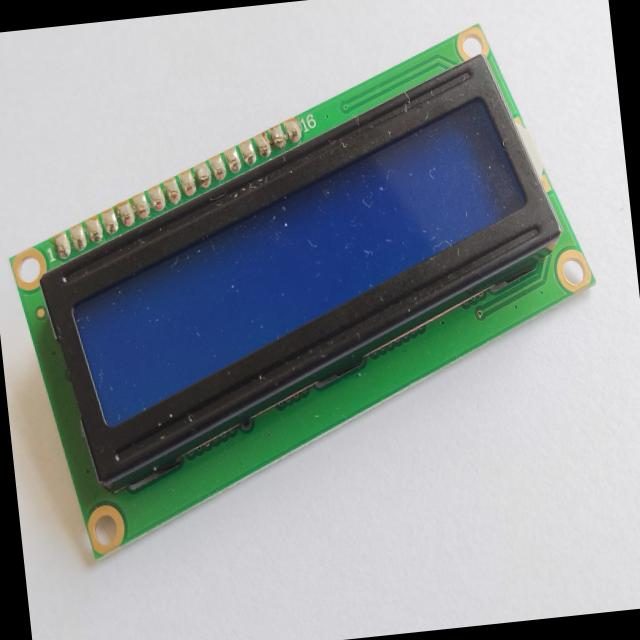lcd: (0, 12, 618, 565)
